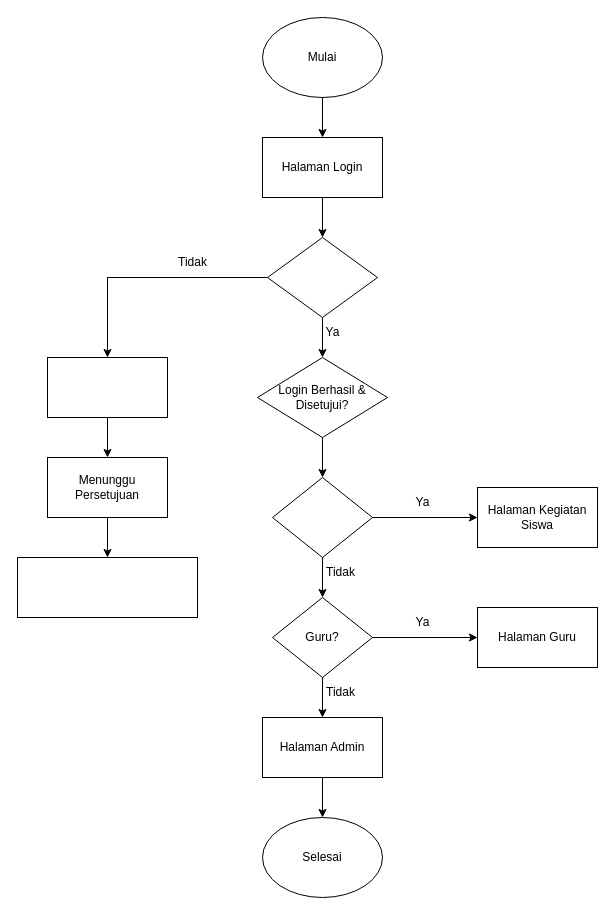
Some shapes in this 615 by 915 pixel diagram are drawn without their labels. Each missing label, with the centre of its shape:
"Halaman Register" goes at [107,387].
"Punya Akun?" goes at [322,277].
"Siswa?" goes at [322,517].
"User Management (Admin)" goes at [107,587].
